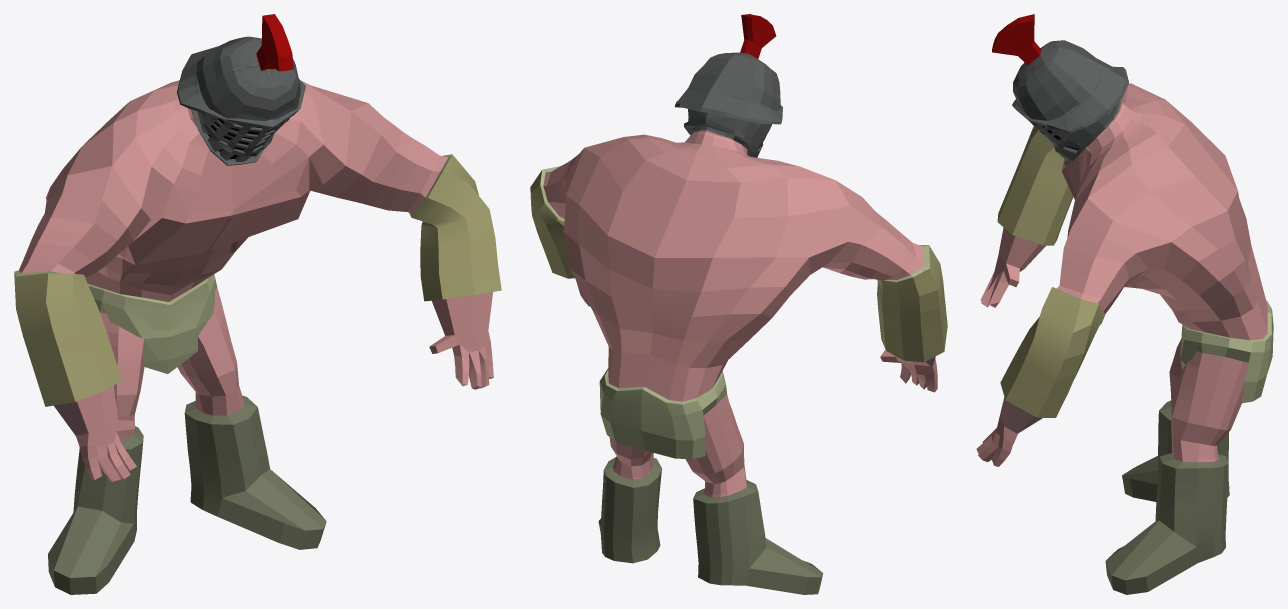
The model's file is GladiatorCelebracion_000508.obj.
The picture shows the model from 3 angles, left to right: view 1: azimuth 30°, elevation 25°; view 2: azimuth 150°, elevation 25°; view 3: azimuth 270°, elevation 25°; orthographic projection. The views are drawn at different scales.
Visible parts, largest first — view 1: Gadiador_Gladiador_H; view 2: Gadiador_Gladiador_H; view 3: Gadiador_Gladiador_H.
Part boxes in pixels (box(x1,y1,x2,y2)): Gadiador_Gladiador_H: box(14, 14, 501, 594); Gadiador_Gladiador_H: box(530, 14, 947, 594); Gadiador_Gladiador_H: box(976, 14, 1273, 594).
Bounding box in the file's own units: 5.59 × 6.71 × 3.39.
1 material, 1 textured.
